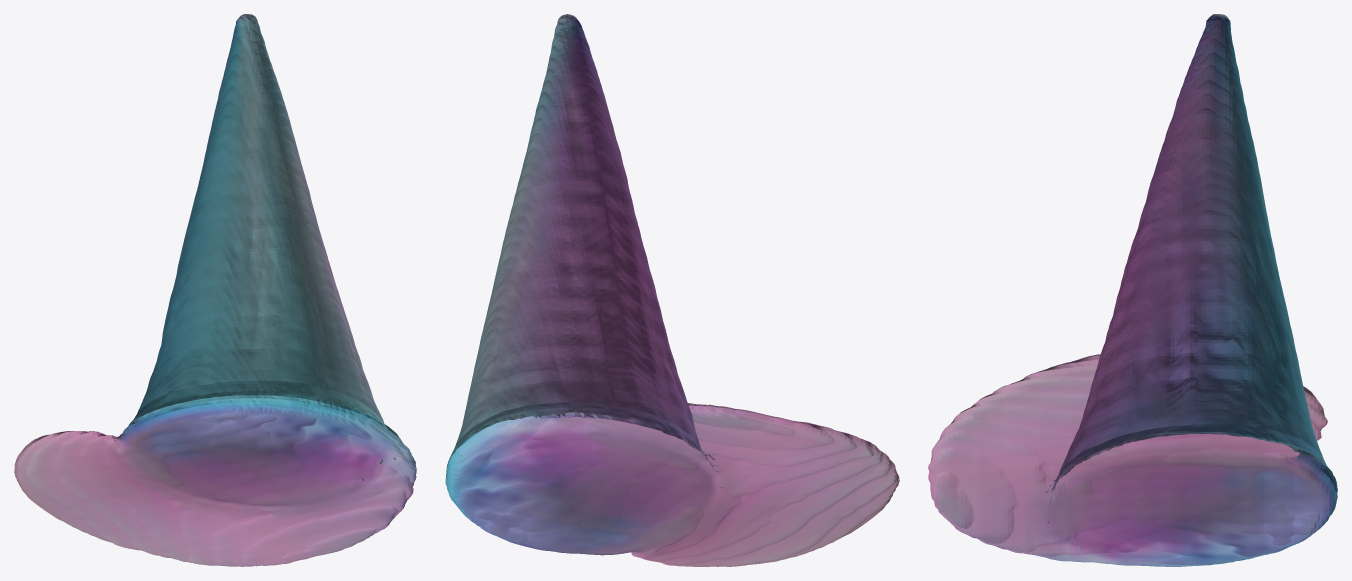
The picture shows the model from 3 angles, left to right: view 1: azimuth 30°, elevation 25°; view 2: azimuth 150°, elevation 25°; view 3: azimuth 270°, elevation 25°; orthographic projection. The views are drawn at different scales.
Parts seen in each view (by area): view 1: geometry_0; view 2: geometry_0; view 3: geometry_0.
Boxes of the visible parts, bbox=[...] form: geometry_0: bbox=[14, 14, 416, 566]; geometry_0: bbox=[445, 14, 899, 566]; geometry_0: bbox=[928, 14, 1337, 566].
Size of the model in its own units: 1.34 by 1.6 by 1.18.
